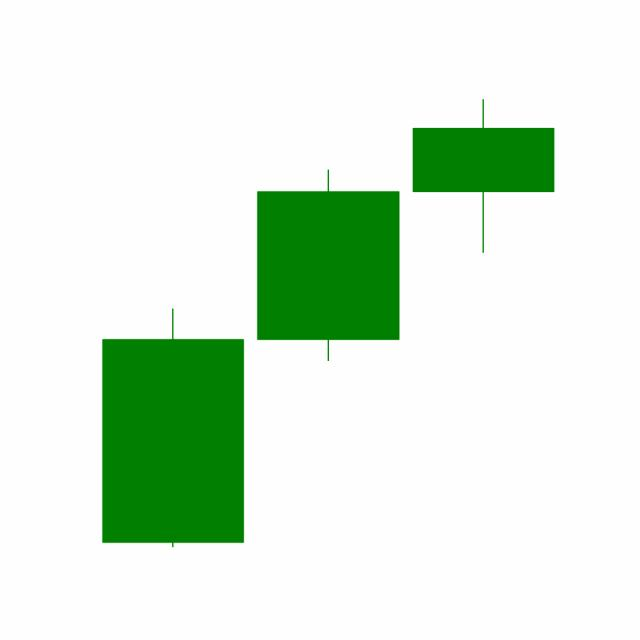Marubozu: (249, 166, 406, 363)
